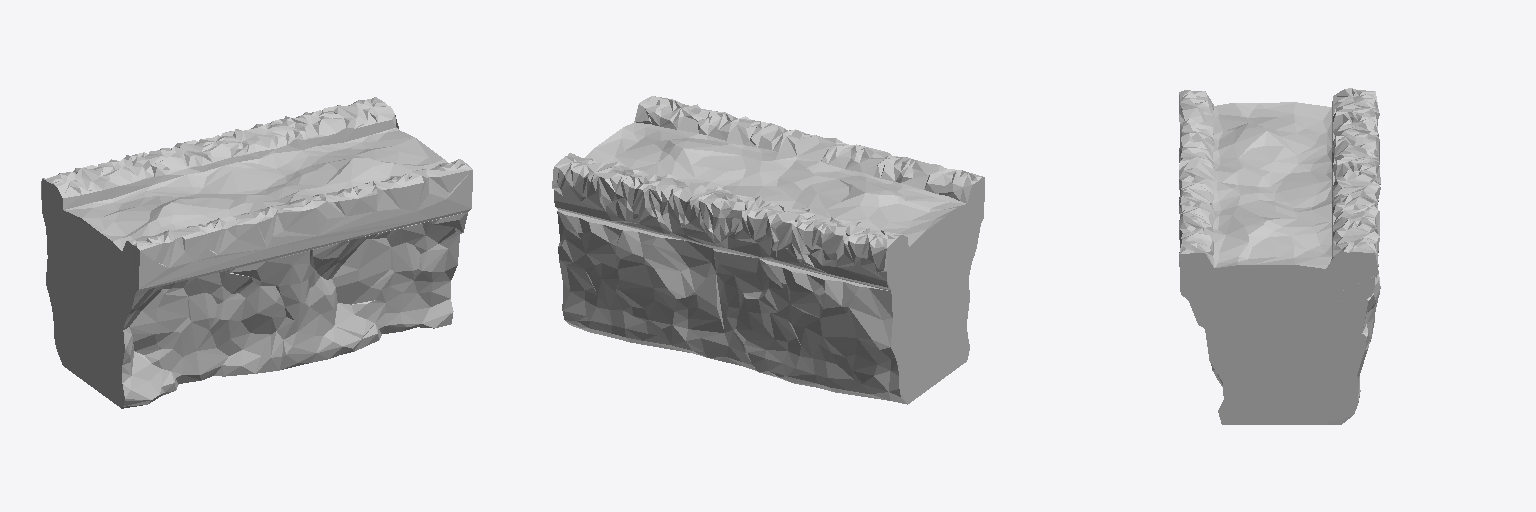
3 views of the same model, side by side, from view 1: azimuth 30°, elevation 25°; view 2: azimuth 150°, elevation 25°; view 3: azimuth 270°, elevation 25° (orthographic).
Parts seen in each view (by area): view 1: base_high_0_3:Group56224; view 2: base_high_0_3:Group56224; view 3: base_high_0_3:Group56224.
Boxes of the visible parts, x1=… form: base_high_0_3:Group56224: x1=41, y1=97, x2=472, y2=408; base_high_0_3:Group56224: x1=552, y1=96, x2=984, y2=404; base_high_0_3:Group56224: x1=1179, y1=88, x2=1380, y2=424.
Size of the model in its own units: 98.44 by 49.99 by 51.63.